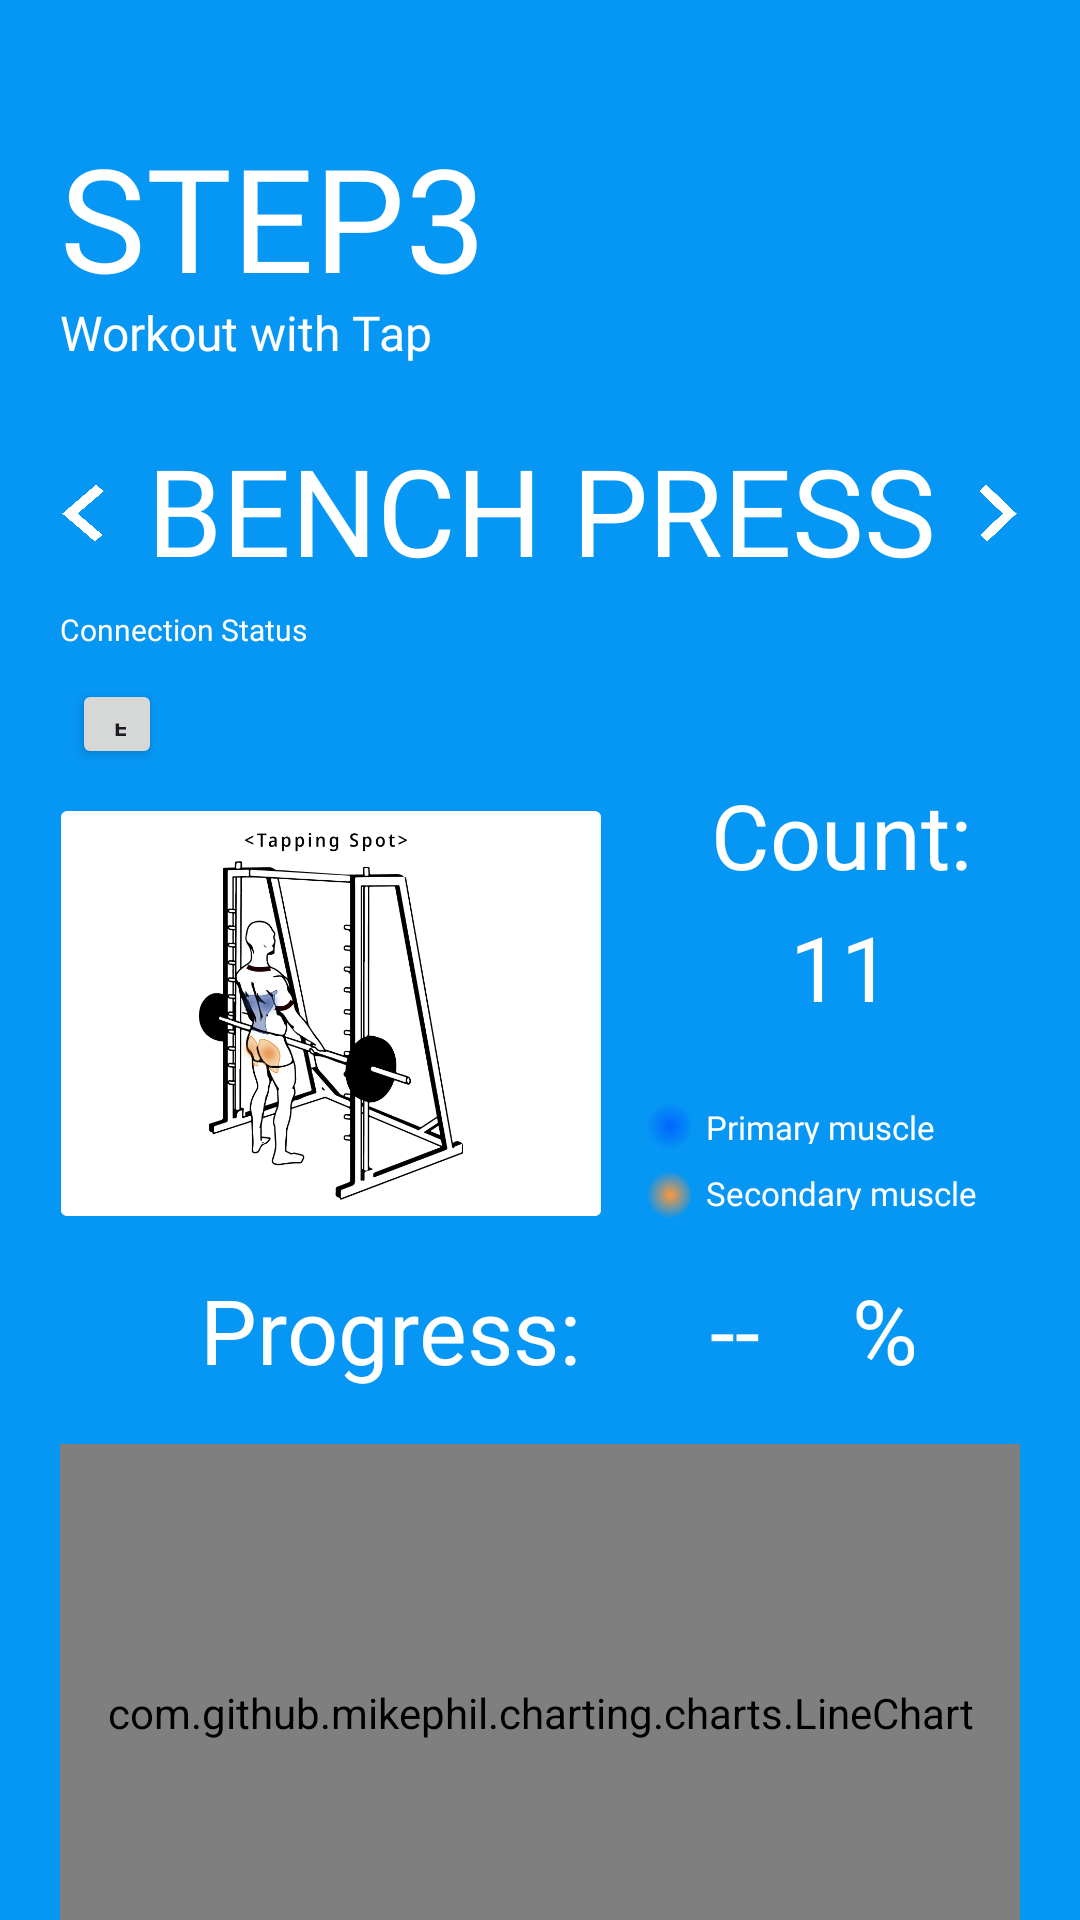

Where to tap for icons on this 1080×1920 app screen, as (x,y):
backbutton: (83,513)
nextbutton: (998,513)
